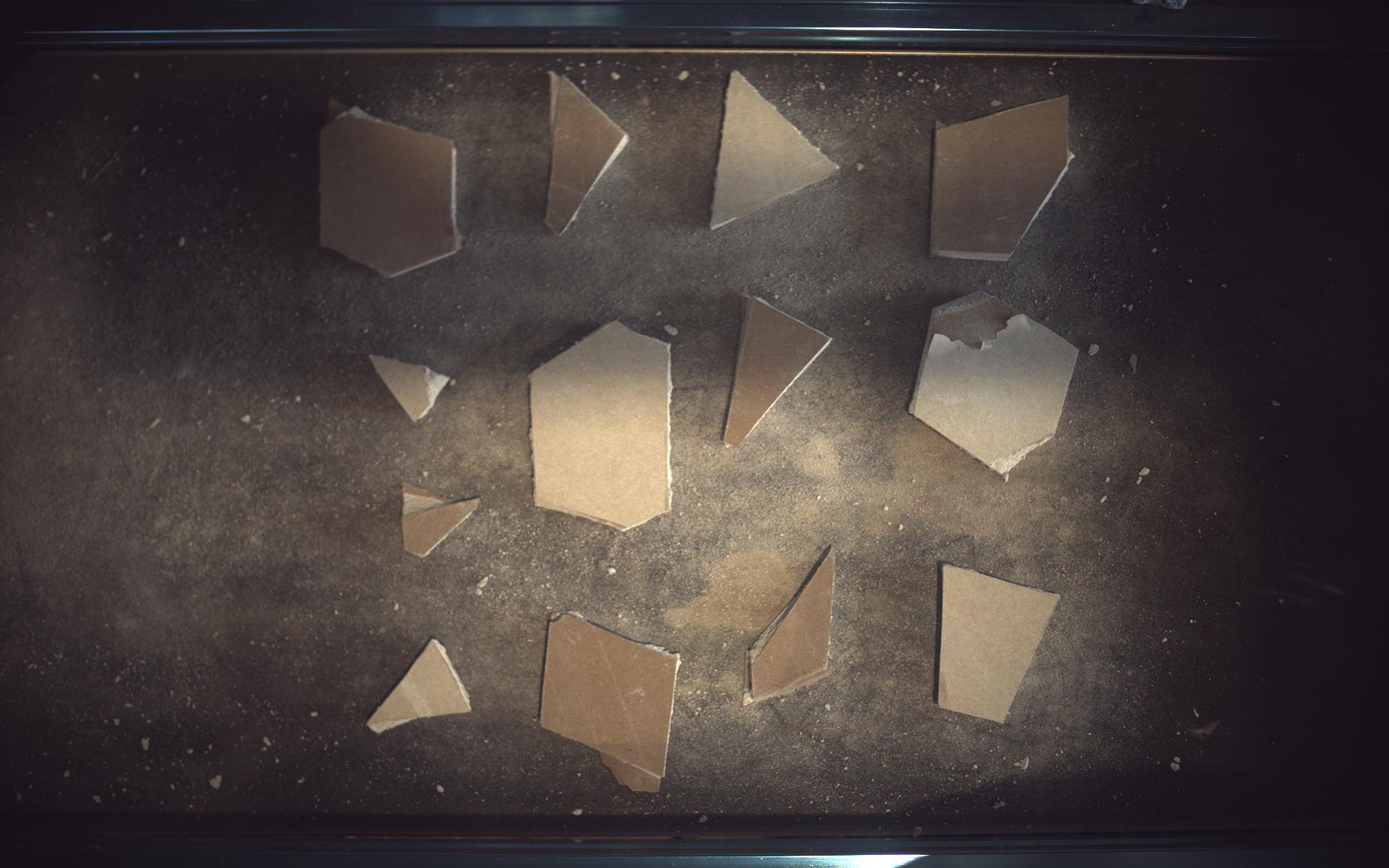gypsum_board: (911, 291, 1081, 478), (530, 320, 672, 531), (320, 98, 462, 276), (542, 616, 681, 794), (932, 95, 1075, 260), (711, 69, 840, 229), (938, 564, 1062, 724), (725, 293, 833, 447), (744, 547, 836, 707), (545, 70, 629, 234), (367, 639, 471, 735), (402, 483, 480, 558), (370, 354, 449, 421)
